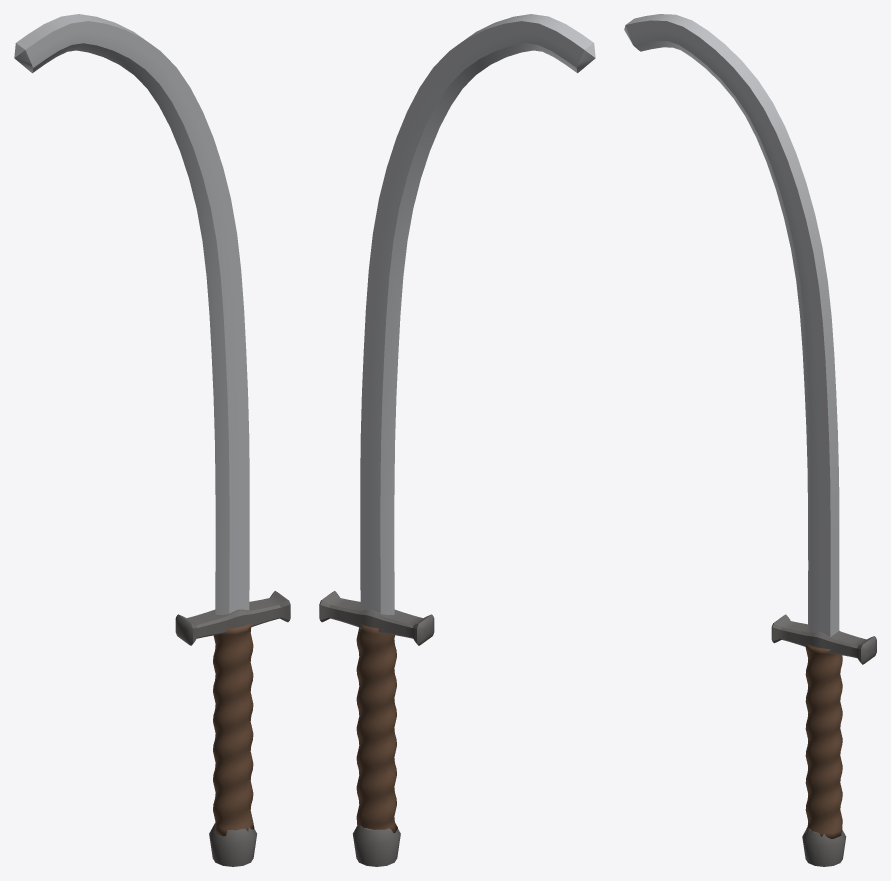
Rendered from sickle-sword.glb.
3 renders of one model, left to right at view 1: azimuth 30°, elevation 25°; view 2: azimuth 150°, elevation 25°; view 3: azimuth 330°, elevation 25°, orthographic. The views are drawn at different scales.
Parts seen in each view (by area): view 1: sickle-sword; view 2: sickle-sword; view 3: sickle-sword.
Part boxes in pixels (box(x1,y1,x2,y2)): sickle-sword: box(14, 14, 290, 866); sickle-sword: box(319, 14, 595, 866); sickle-sword: box(624, 14, 876, 866).
Bounding box in the file's own units: 0.52 × 1.62 × 0.08.
